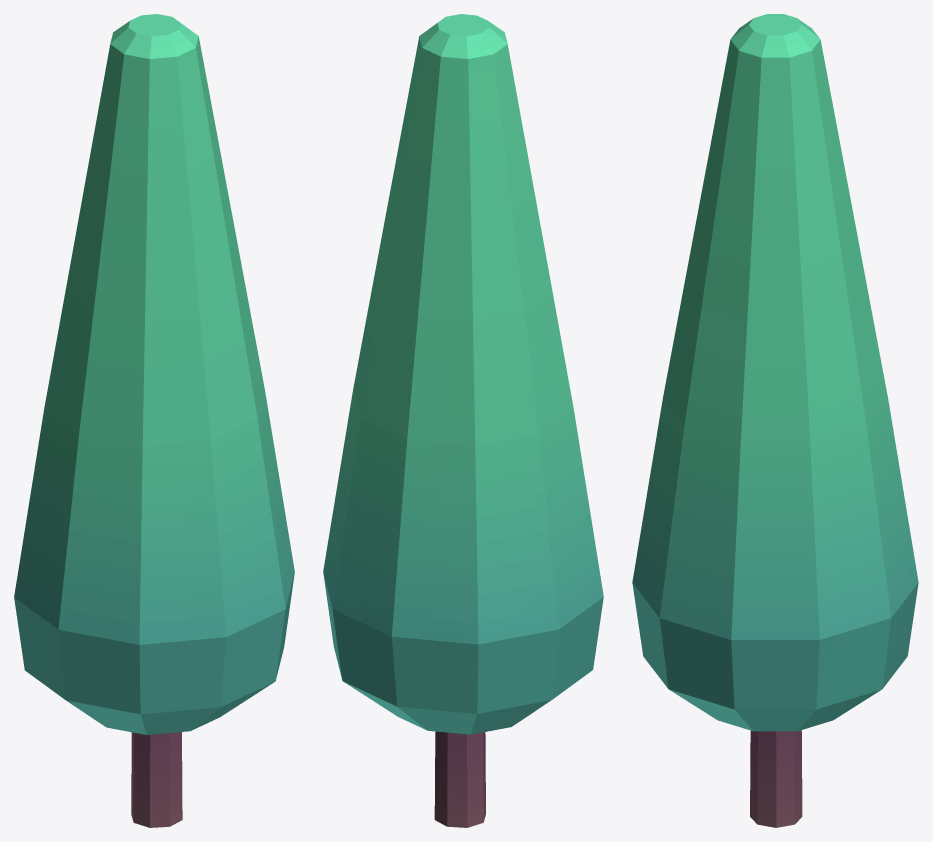
The model's file is bush004.obj.
The picture shows the model from 3 angles, left to right: view 1: azimuth 30°, elevation 25°; view 2: azimuth 150°, elevation 25°; view 3: azimuth 270°, elevation 25°; orthographic projection.
Parts seen in each view (by area): view 1: bush.004; view 2: bush.004; view 3: bush.004.
Part boxes in pixels (bbox=[...]): bush.004: bbox=[14, 14, 294, 827]; bush.004: bbox=[323, 14, 603, 827]; bush.004: bbox=[632, 14, 918, 827].
Size of the model in its own units: 1.93 by 6.18 by 2.03.
Materials: 1 (1 with a texture image).
